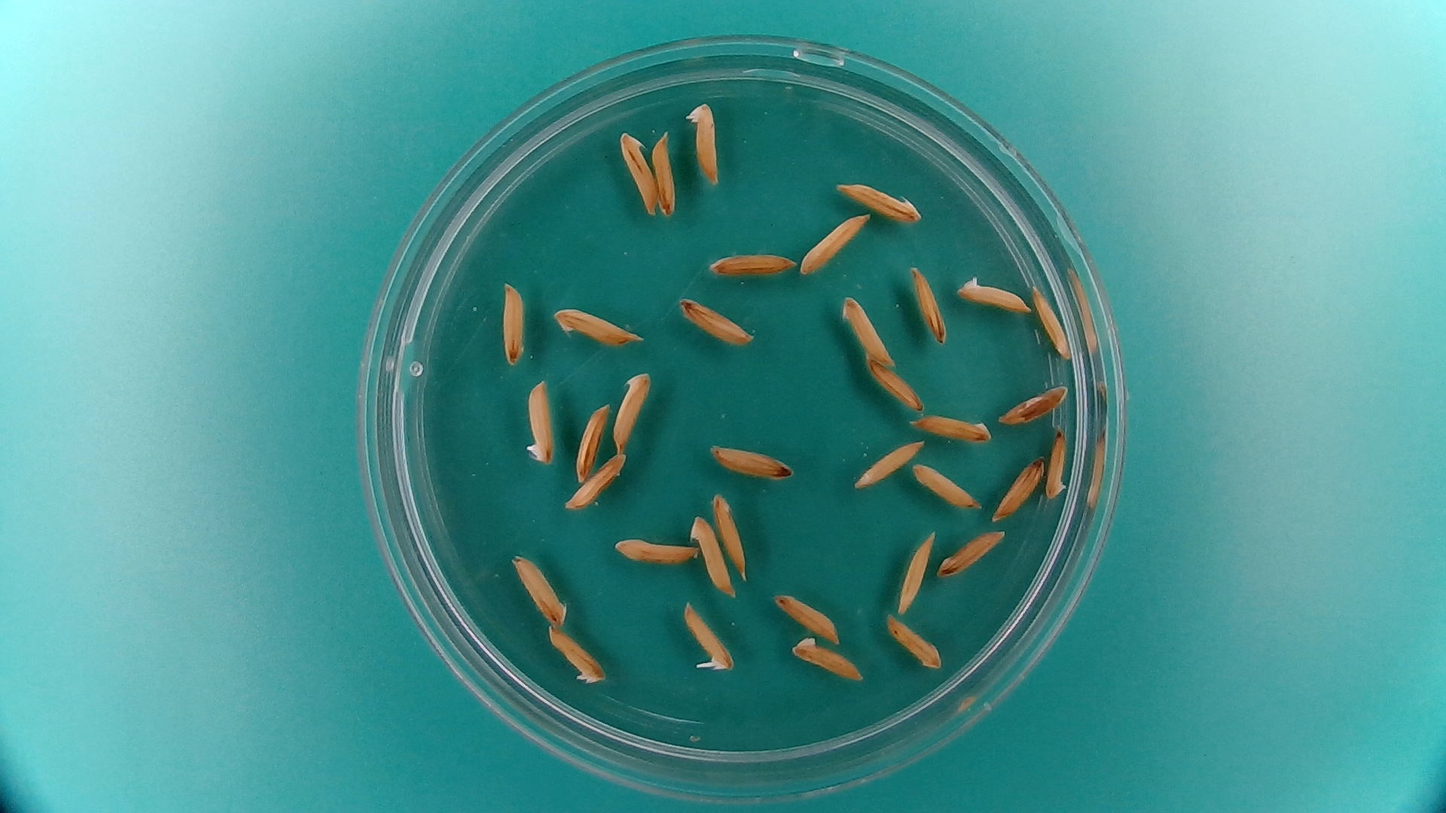no: (683, 504, 737, 595), (798, 211, 870, 275), (509, 552, 569, 628), (552, 303, 644, 349), (837, 294, 895, 366), (675, 294, 755, 346), (770, 589, 842, 644), (705, 440, 797, 483), (563, 451, 627, 512), (833, 178, 923, 221), (850, 437, 923, 490), (788, 633, 867, 681), (611, 368, 654, 454), (617, 127, 659, 215), (895, 527, 937, 614), (991, 455, 1045, 522), (883, 612, 944, 671), (710, 489, 750, 578), (907, 262, 949, 346), (937, 528, 1007, 578), (995, 381, 1071, 427), (911, 460, 981, 509), (1030, 282, 1073, 359), (572, 400, 611, 483), (866, 358, 925, 411), (704, 246, 798, 279), (521, 376, 555, 466), (611, 534, 699, 568), (908, 410, 993, 445), (649, 130, 679, 217), (499, 279, 528, 367), (1044, 425, 1070, 499)
yes: (680, 597, 737, 674), (545, 623, 608, 687), (953, 270, 1033, 314), (685, 99, 721, 184)
